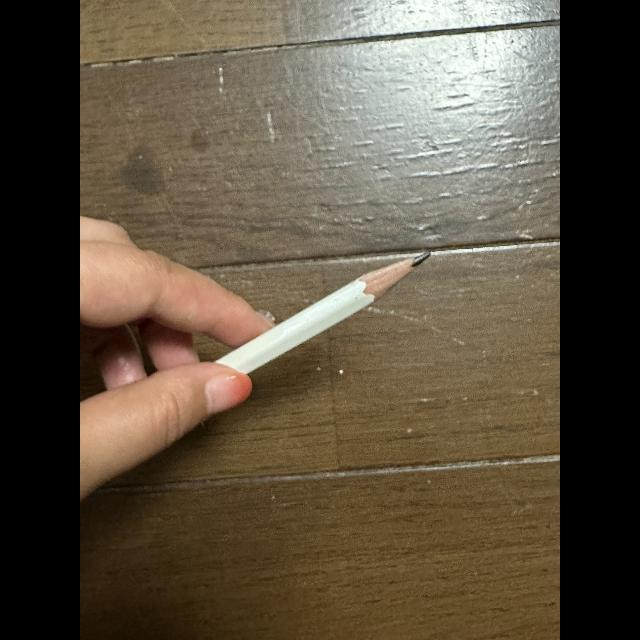pencil: (209, 244, 437, 372)
